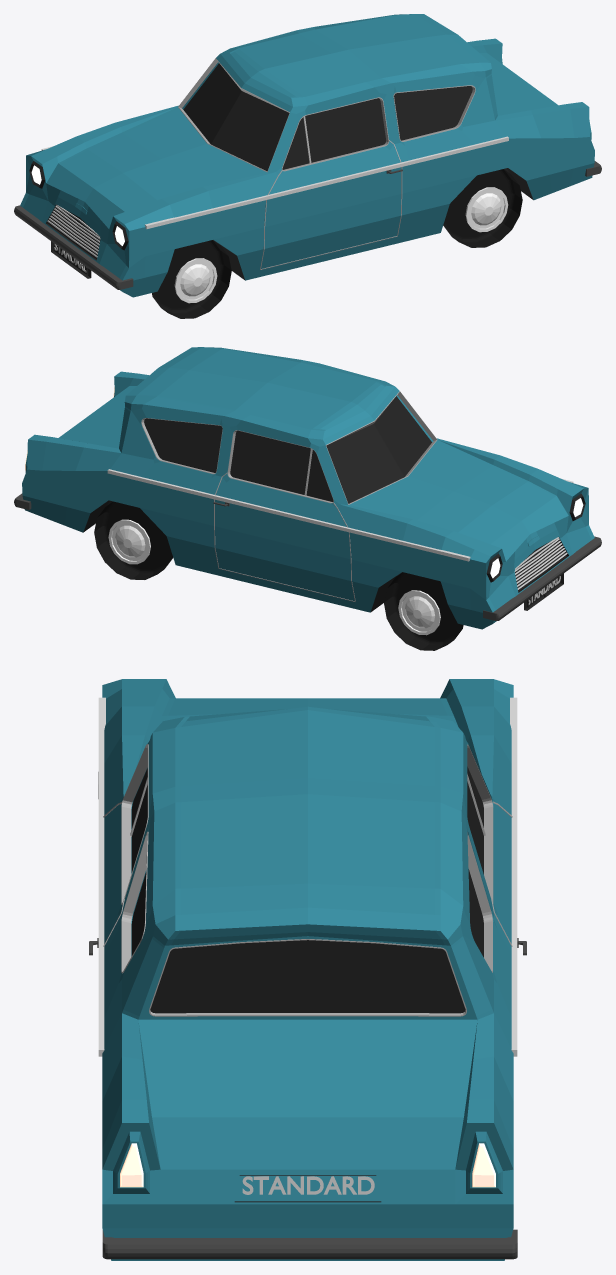
File: car4.glb
3 renders of one model, top to bottom at view 1: azimuth 30°, elevation 25°; view 2: azimuth 150°, elevation 25°; view 3: azimuth 270°, elevation 25°, orthographic. The views are drawn at different scales.
Visible parts, largest first — view 1: Plane_0, Circle.001_18, Circle_1, Plane.003_4, Plane.002_3, Circle.002_17, Circle.003_19, Plane.006_8, Plane.011_15, Plane.012_12, Plane.009_11, Plane.013_13; view 2: Plane_0, Circle.001_18, Circle_1, Plane.003_4, Plane.002_3, Circle.002_17, Circle.003_19, Plane.006_8, Plane.011_15, Plane.012_12, Plane.009_11; view 3: Plane_0, Plane.001_2, Plane.003_4, Plane.012_12, Plane.013_13, Plane.014_14, Text.002_6.
Part boxes in pixels (box(x1,y1,x2,y2)): Plane_0: box(20, 14, 594, 297); Circle.001_18: box(443, 169, 522, 247); Circle_1: box(152, 240, 231, 318); Plane.003_4: box(41, 136, 508, 229); Plane.002_3: box(14, 205, 133, 289); Circle.002_17: box(174, 258, 217, 303); Circle.003_19: box(465, 187, 508, 232); Plane.006_8: box(47, 204, 100, 257); Plane.011_15: box(178, 58, 289, 172); Plane.012_12: box(282, 97, 388, 171); Plane.009_11: box(260, 140, 402, 269); Plane.013_13: box(393, 85, 475, 141); Plane_0: box(22, 347, 594, 629); Circle.001_18: box(94, 501, 172, 579); Circle_1: box(384, 572, 463, 650); Plane.003_4: box(107, 469, 573, 561); Plane.002_3: box(483, 536, 601, 620); Circle.002_17: box(398, 590, 440, 635); Circle.003_19: box(108, 519, 150, 564); Plane.006_8: box(514, 537, 567, 589); Plane.011_15: box(326, 391, 437, 504); Plane.012_12: box(227, 430, 333, 503); Plane.009_11: box(214, 473, 355, 601); Plane_0: box(102, 679, 513, 1260); Plane.001_2: box(102, 1229, 517, 1259); Plane.003_4: box(98, 697, 517, 1056); Plane.012_12: box(121, 744, 493, 904); Plane.013_13: box(121, 831, 492, 973); Plane.014_14: box(149, 939, 466, 1016); Text.002_6: box(242, 1176, 374, 1194).
Bounding box in the file's own units: 4.9 × 1.8 × 1.91.
